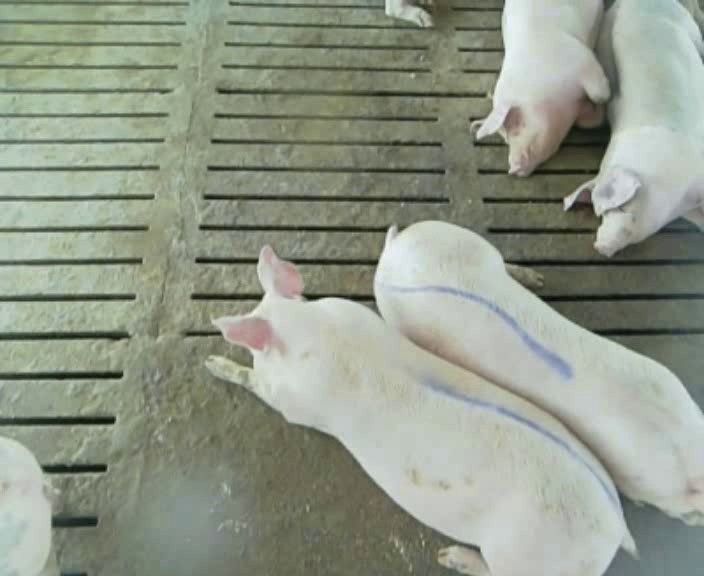pig: (206, 248, 634, 575), (374, 221, 703, 524), (564, 2, 703, 255), (469, 2, 609, 176)
